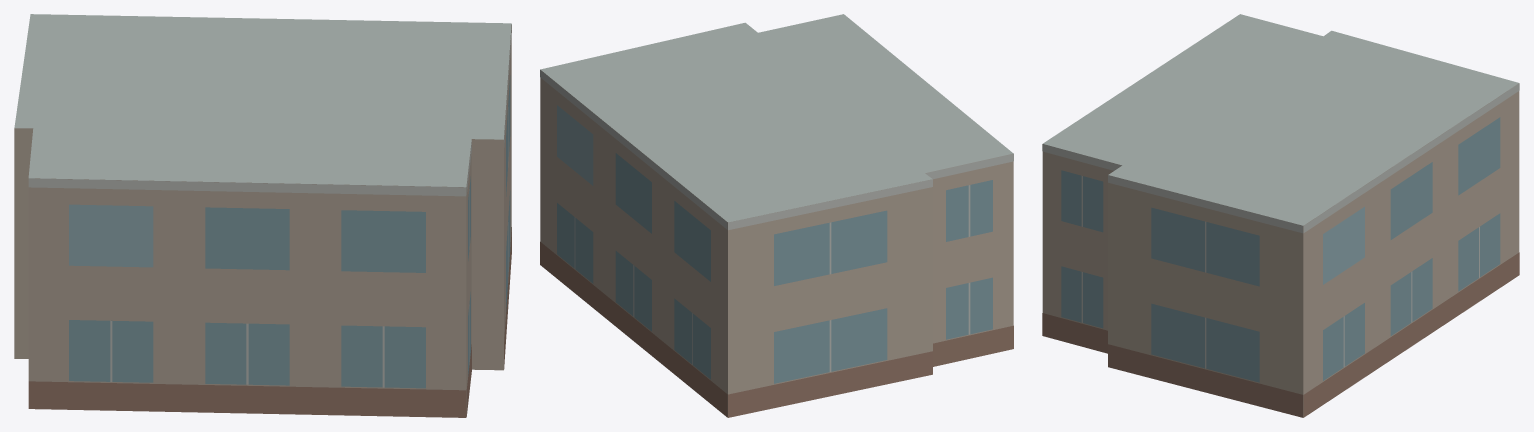
File: survey-upis-32649861.glb
3 views of the same model, side by side, from view 1: azimuth 30°, elevation 25°; view 2: azimuth 150°, elevation 25°; view 3: azimuth 270°, elevation 25° (orthographic). The views are drawn at different scales.
Visible parts, largest first — view 1: survey-upis-32649861.tmp; view 2: survey-upis-32649861.tmp; view 3: survey-upis-32649861.tmp.
Part boxes in pixels (bbox=[...]): survey-upis-32649861.tmp: bbox=[14, 14, 511, 417]; survey-upis-32649861.tmp: bbox=[540, 14, 1013, 417]; survey-upis-32649861.tmp: bbox=[1042, 14, 1519, 417].
Size of the model in its own units: 14.43 by 6.1 by 13.74.
